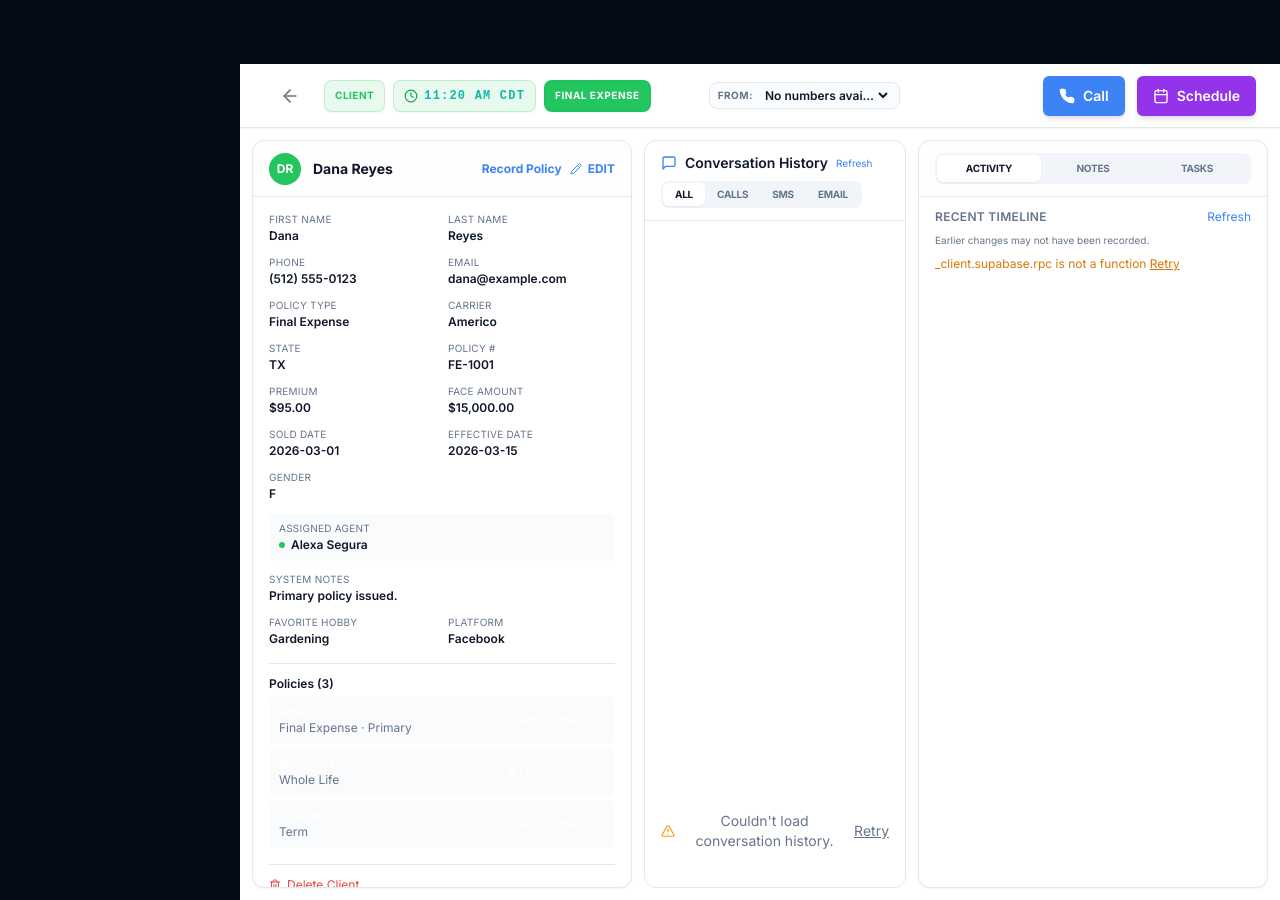
Scenario: FullScreenContactView — additional_policies is never rendered generically › shows every saved policy in a dedicated read-only section, outside the generic editor
Check: the text "Carrier" is shown, box [448,299,492,311]
Check: the text "Gender" is shown, box [269,471,311,483]
Click the button "Mutual of Omaha Whole Life $150.00/mo".
click(328, 764)  # box [269,748,615,796]
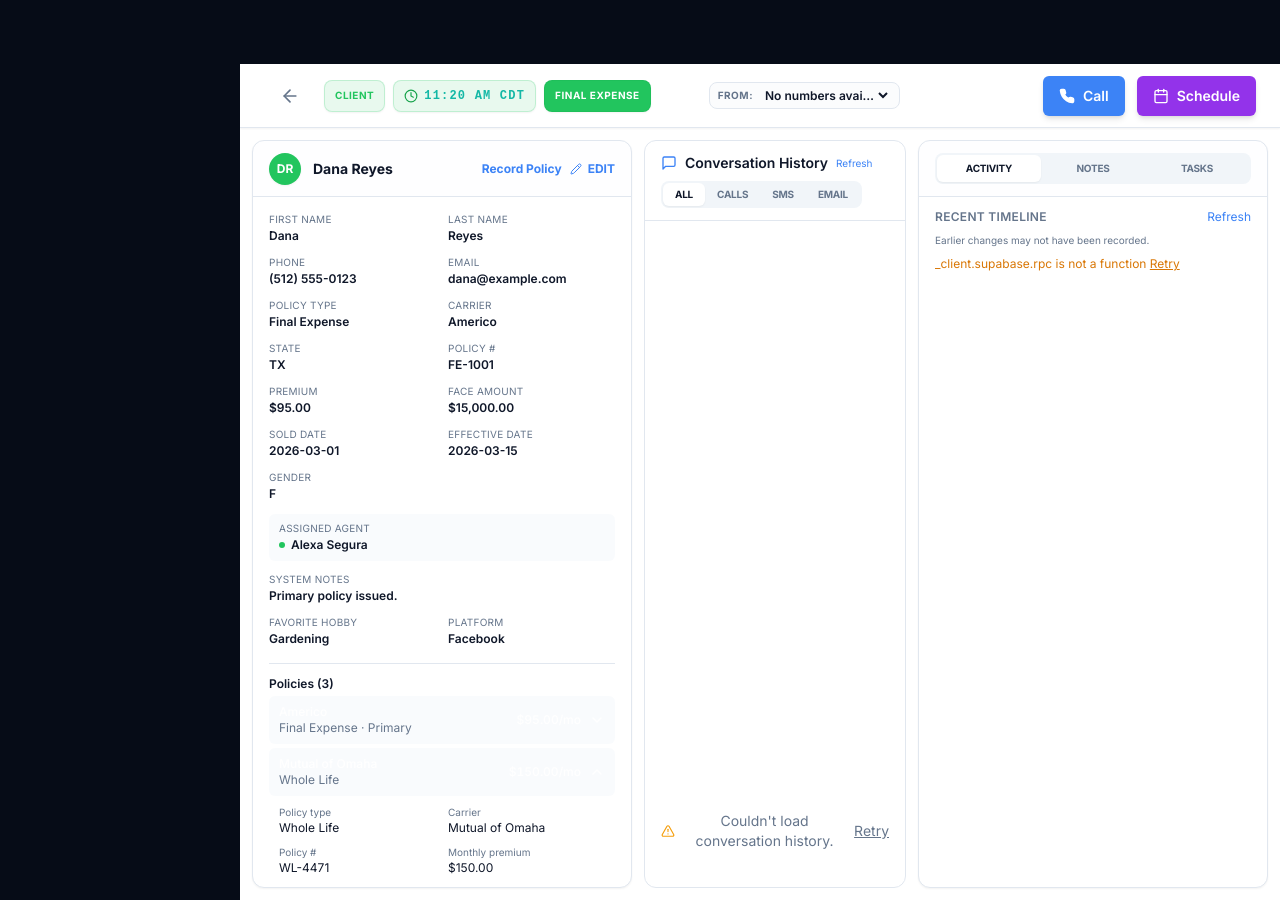
Check: the text "WL-4471" is shown, box [279,860,329,875]
Check: the text "$150.00" is shown, box [448,860,493,875]
Click the button "EDIT".
click(592, 168)  # box [570,160,615,176]
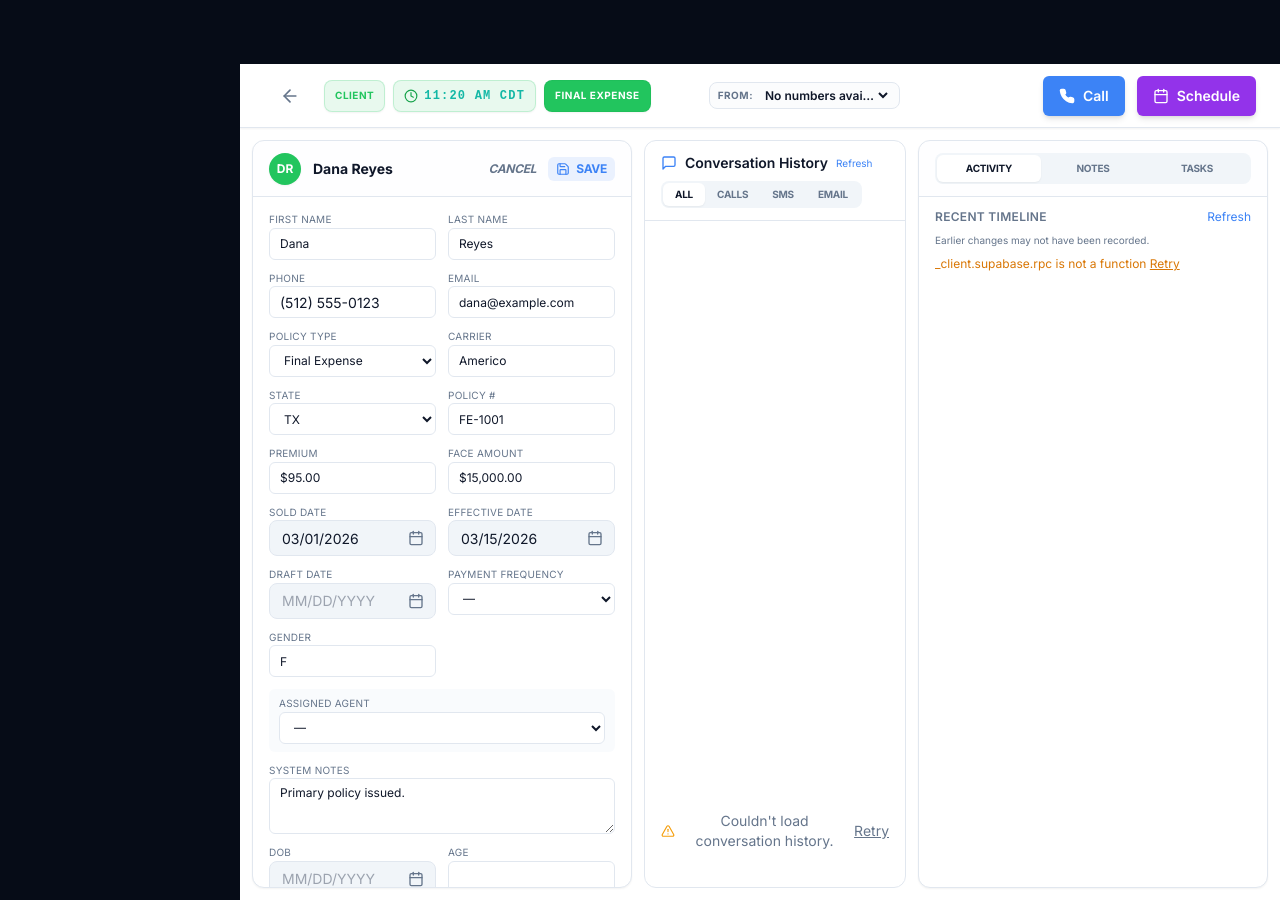
Check: the heading "Policies" is gone
